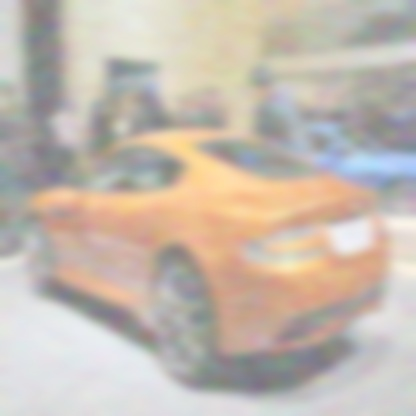Vehicle: (24, 128, 395, 388)
